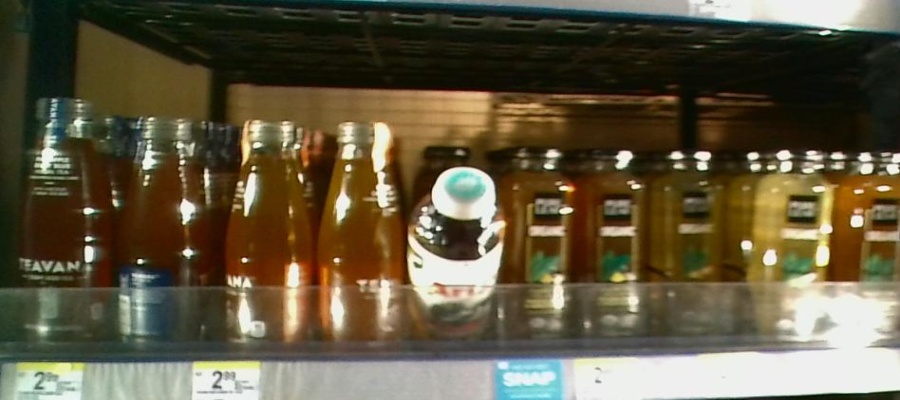bottle: (20, 95, 111, 357), (114, 110, 206, 354), (223, 116, 314, 356), (317, 119, 407, 360), (412, 163, 507, 353), (755, 147, 833, 339), (510, 142, 578, 343), (651, 148, 723, 336), (580, 144, 645, 346), (838, 147, 900, 340)
